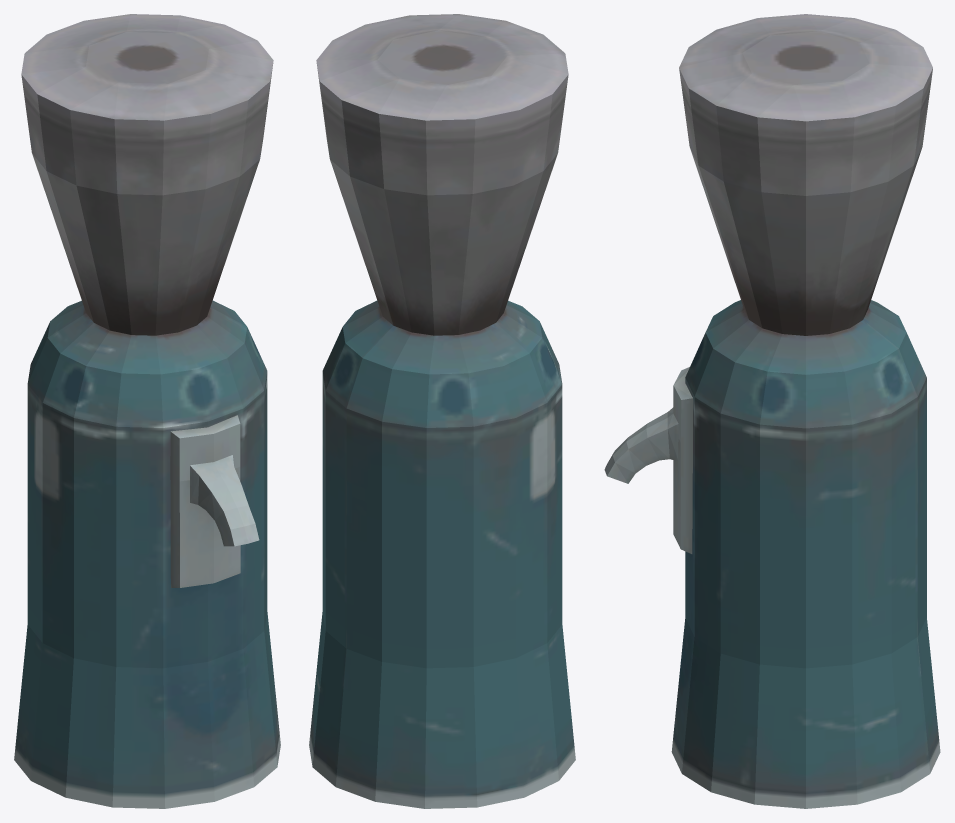
Rendered from P_Appliance_00149.obj.
3 views of the same model, side by side, from view 1: azimuth 30°, elevation 25°; view 2: azimuth 150°, elevation 25°; view 3: azimuth 270°, elevation 25° (orthographic).
Bounding box in the file's own units: 0.2989 × 0.8513 × 0.3736.
1 material, 1 textured.
